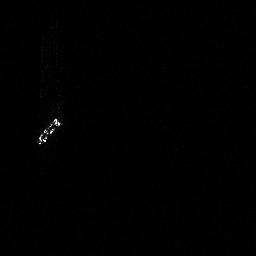ship: (36, 116, 62, 146)
